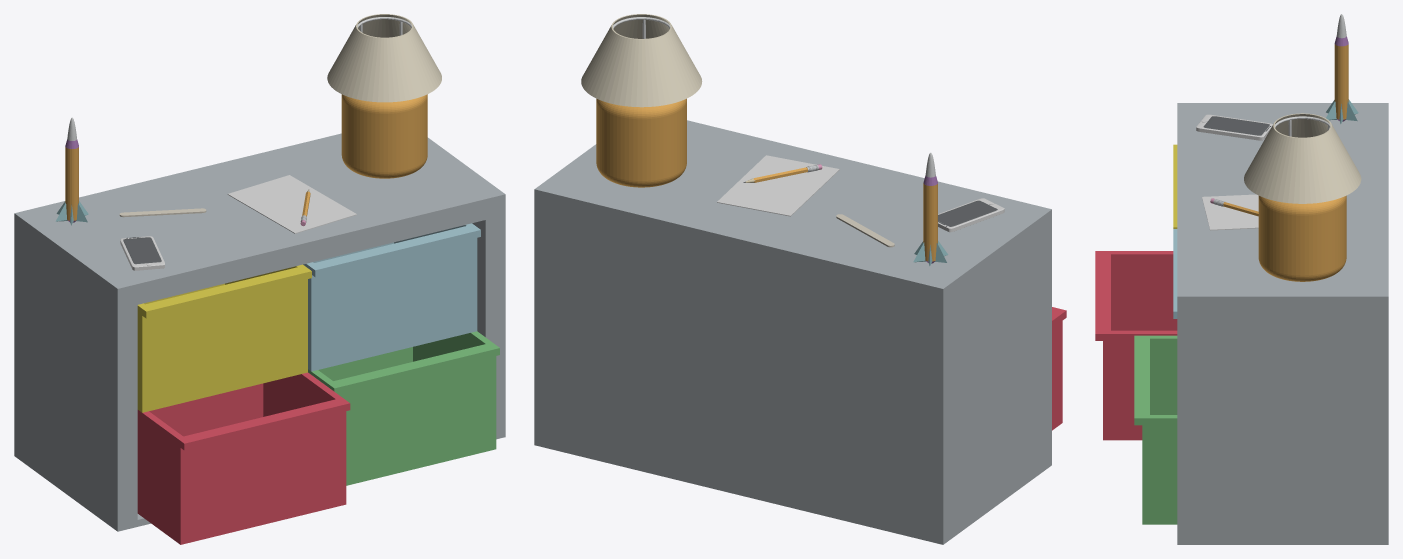
File: night-stand (glb).glb
3 renders of one model, left to right at view 1: azimuth 30°, elevation 25°; view 2: azimuth 150°, elevation 25°; view 3: azimuth 270°, elevation 25°, orthographic. The views are drawn at different scales.
Parts seen in each view (by area): view 1: Mesh_Mesh_head_geo.001_lambert2SG.001; view 2: Mesh_Mesh_head_geo.001_lambert2SG.001; view 3: Mesh_Mesh_head_geo.001_lambert2SG.001.
Part boxes in pixels (x1=…): Mesh_Mesh_head_geo.001_lambert2SG.001: x1=14, y1=14, x2=505, y2=544; Mesh_Mesh_head_geo.001_lambert2SG.001: x1=534, y1=14, x2=1066, y2=544; Mesh_Mesh_head_geo.001_lambert2SG.001: x1=1095, y1=14, x2=1388, y2=544.
Size of the model in its own units: 58.5 by 54.88 by 37.5.
